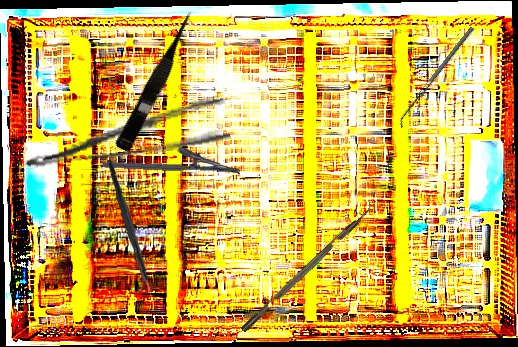Chopper: (233, 197, 379, 333), (99, 159, 170, 305)
Dressing Forceps: (19, 94, 232, 172)
Micro Scissor: (114, 7, 202, 155)
Needle Holder: (102, 142, 242, 176)
Spatula Surgical: (395, 26, 478, 129)
